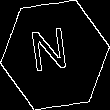N_S: (33, 27, 77, 83)
